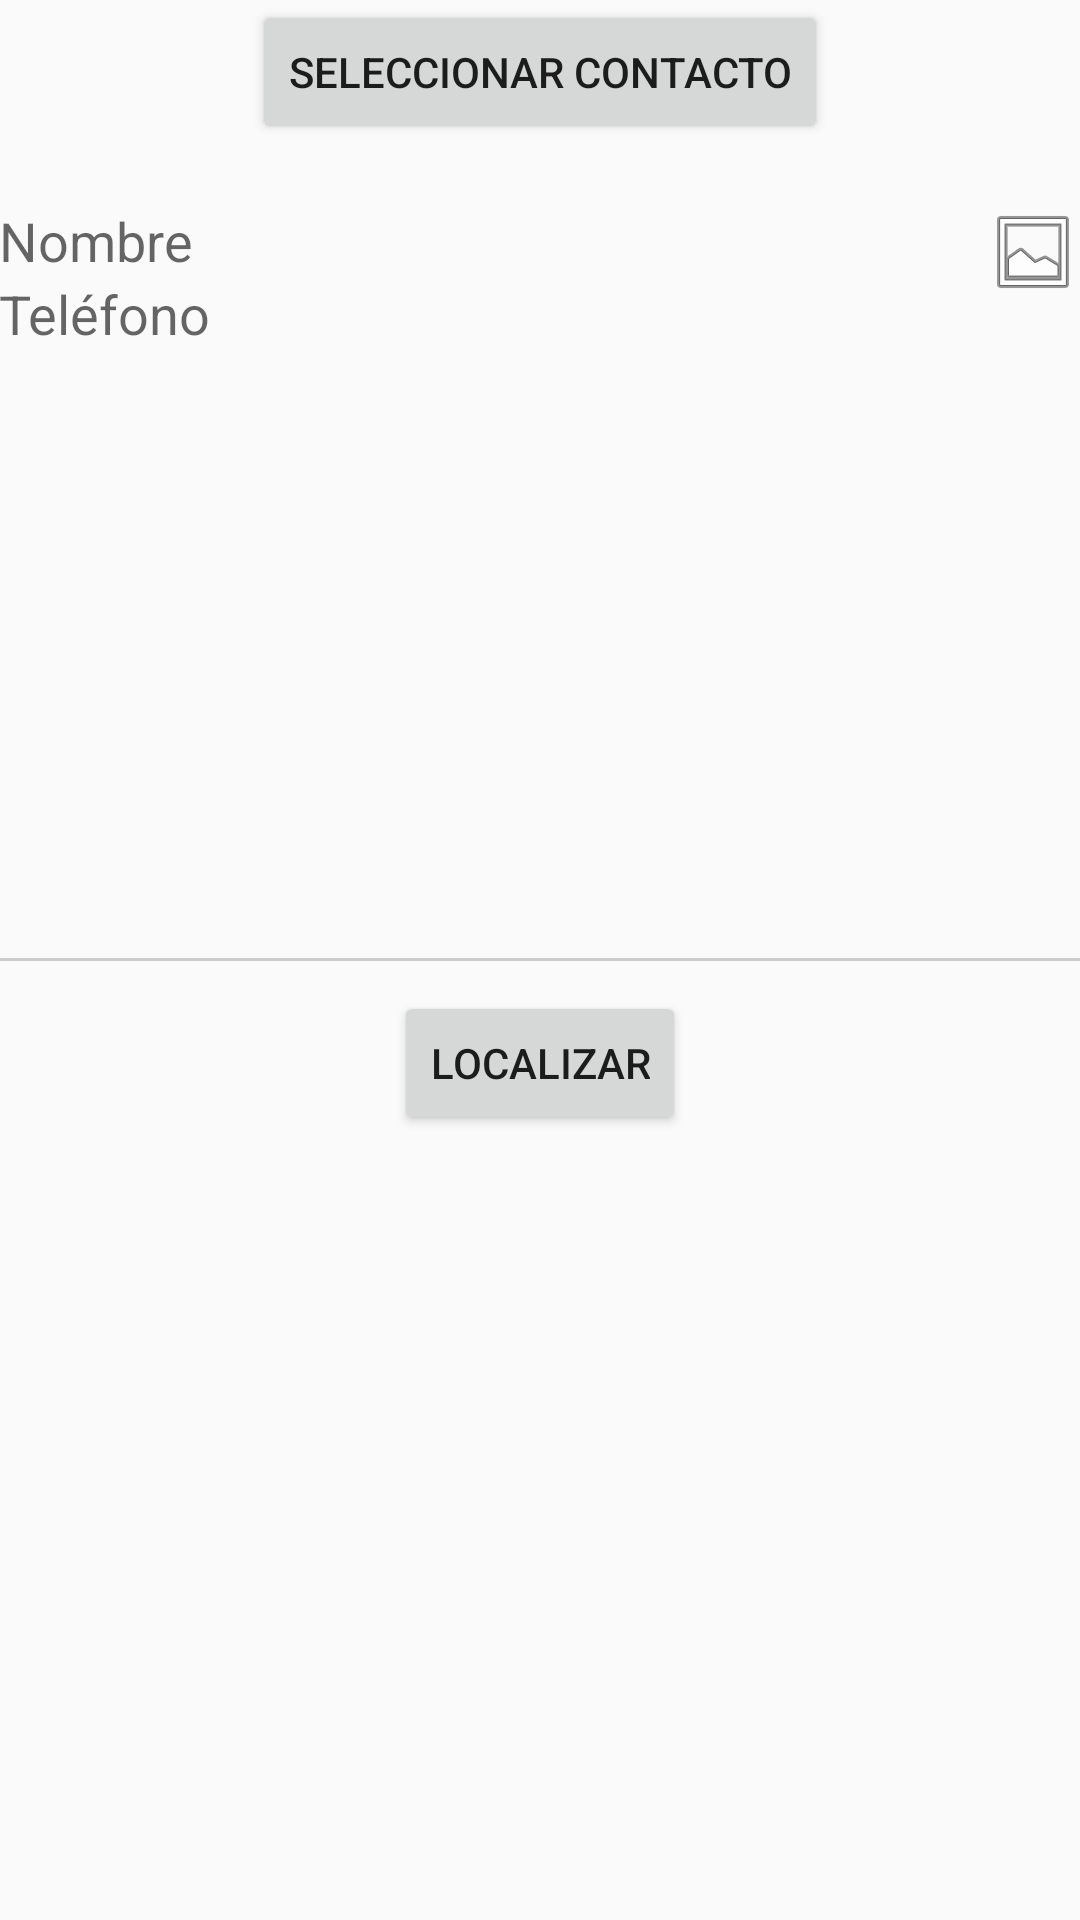

Named icons in this screenshot (1080w x 1920h) and their bounding boxes, bbox(x1, y1, x2, y2):
gallery: bbox(997, 216, 1069, 288)
